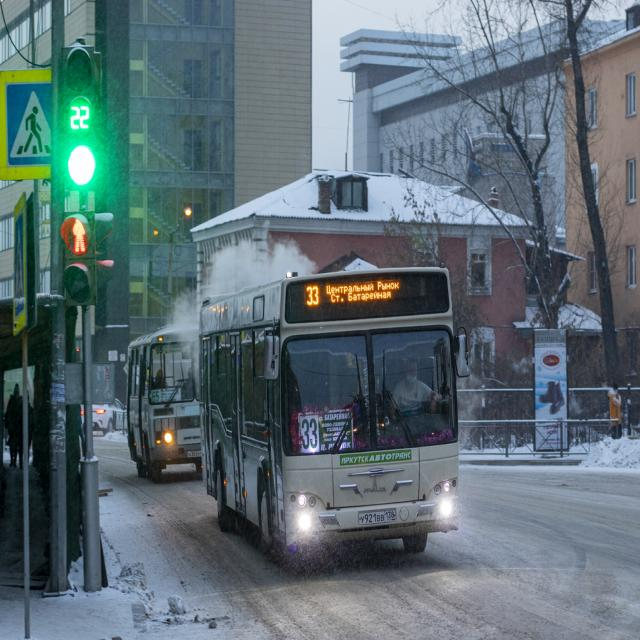number-of-bus: (301, 417, 320, 450), (306, 286, 321, 307)
